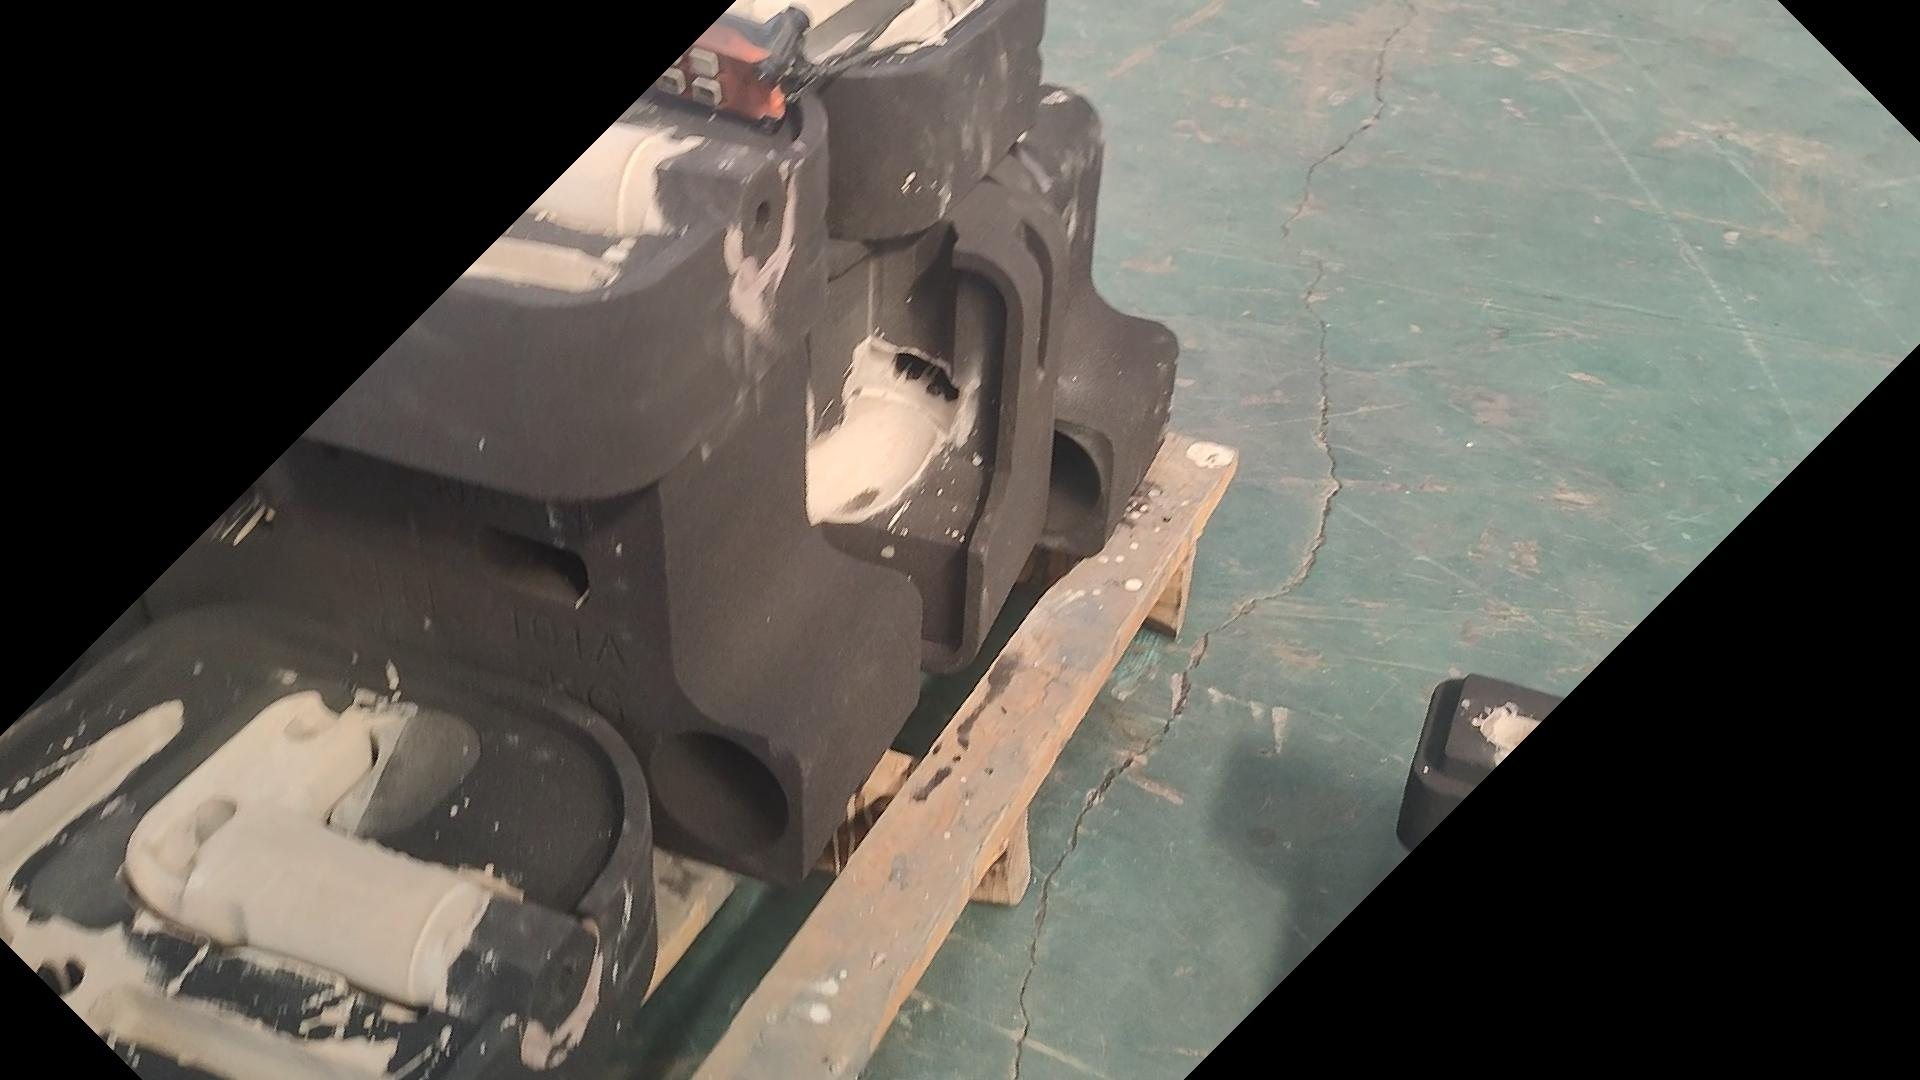pouring hole: (647, 729, 791, 858), (1010, 427, 1102, 535)
